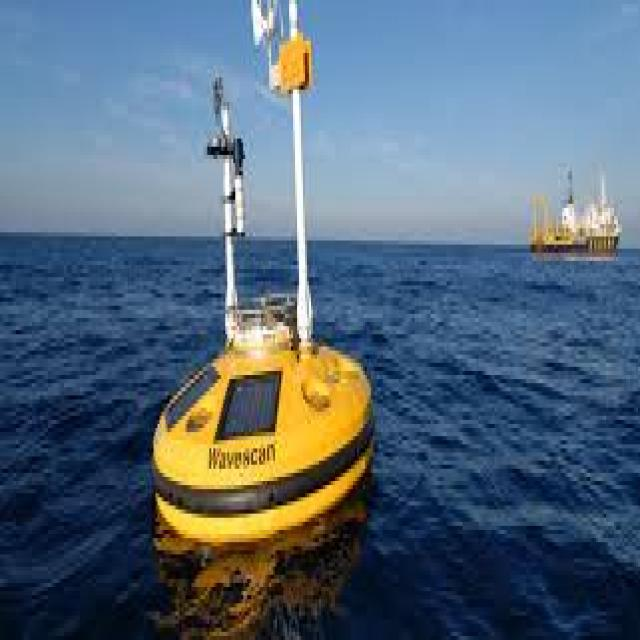2.5 sepcial mark: (137, 3, 390, 562)
